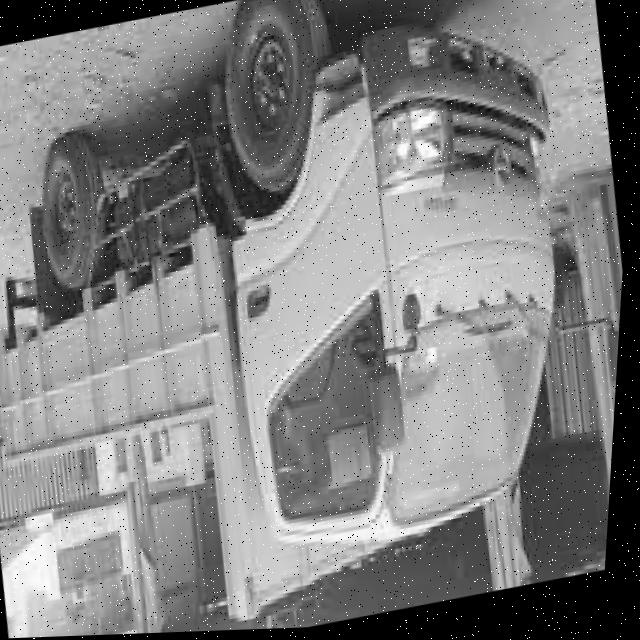truck: (172, 1, 640, 586)
